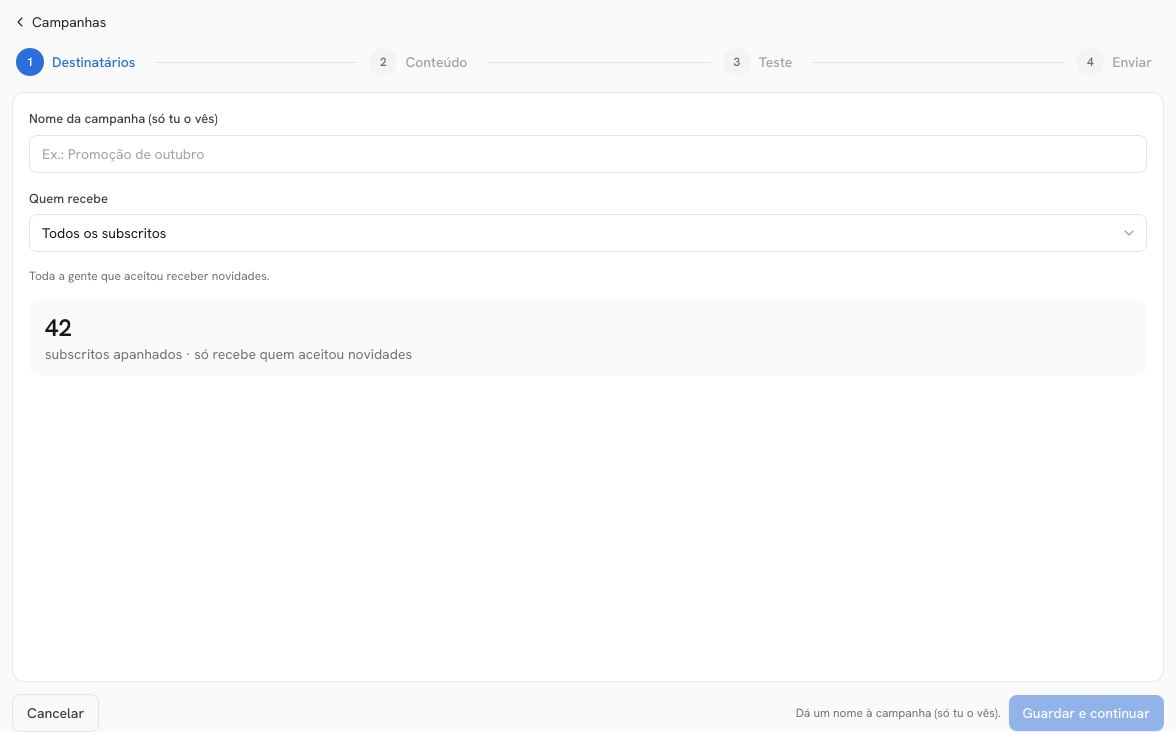
Test case: Nova campanha — passo 1, destinatários › a contagem ao vivo vem do preview-audience e muda com o segmento
Expected: the text with test id "campaign-audience-count" reads "42", [45,312,72,343]
Select "Clientes da agenda" in the dropdown labelled "Quem recebe". click: (588, 233)
box: [29,214,1147,252]
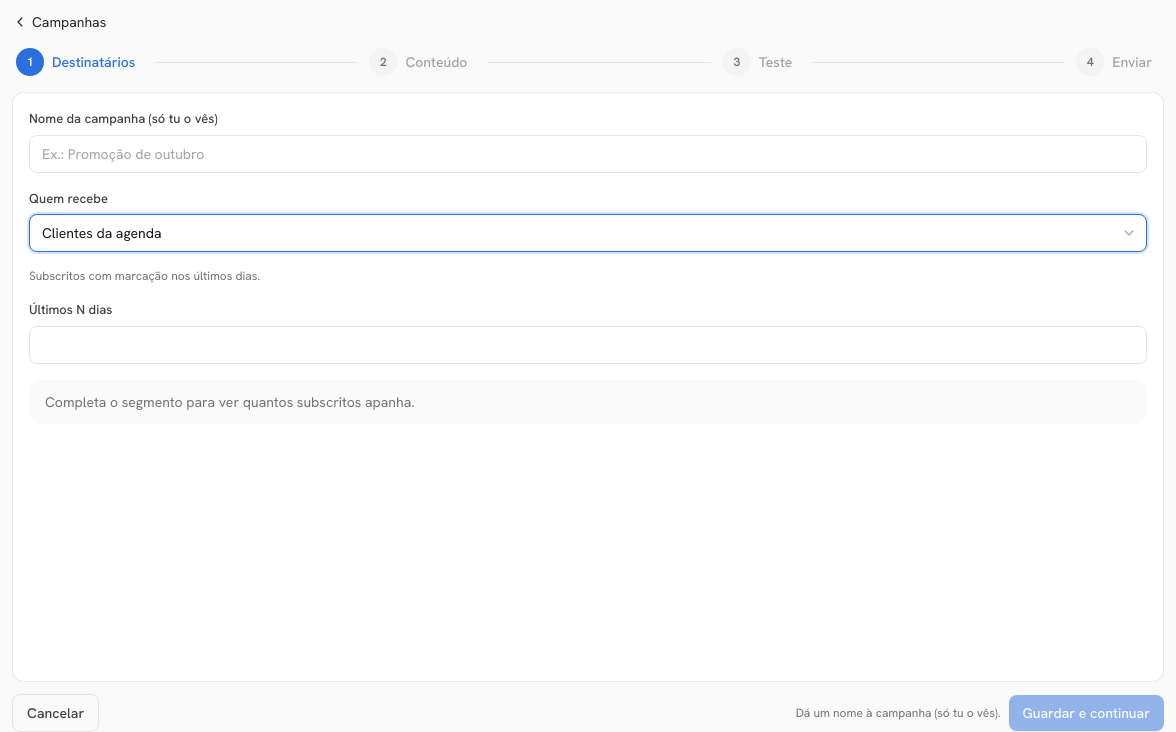
Type "15" into the number field labelled "Últimos N dias". click: (588, 344)
box: [29,326,1147,364]
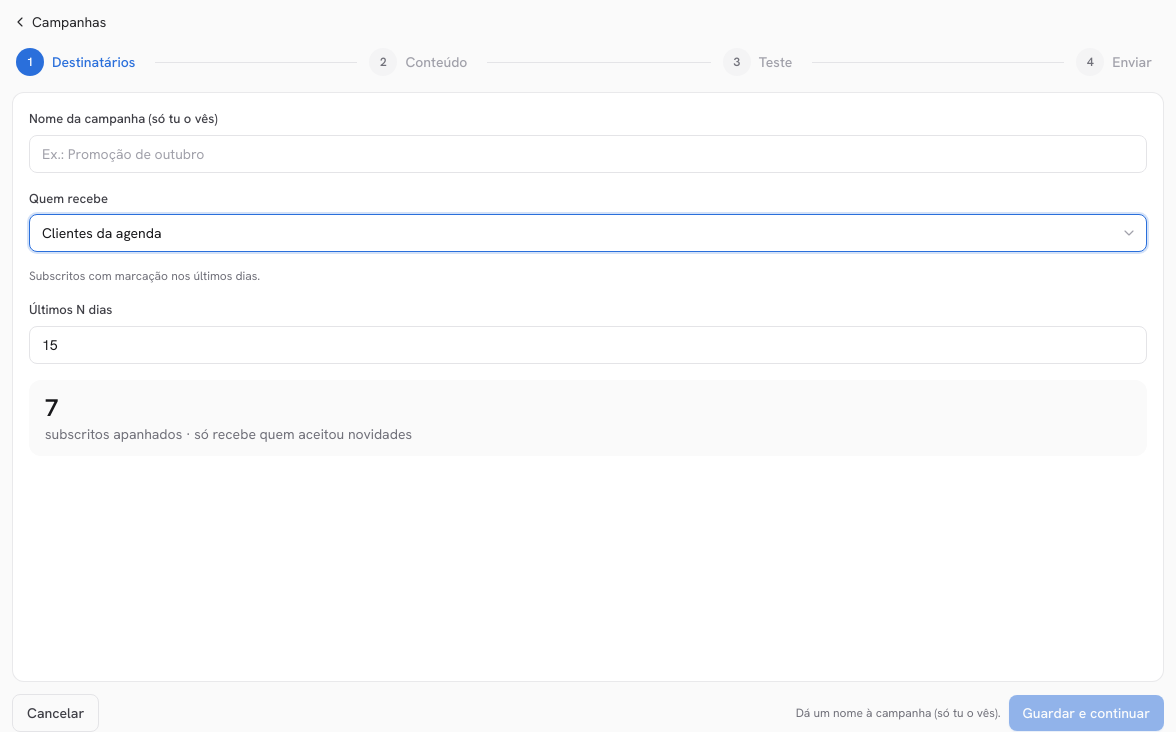
Now the text with test id "campaign-audience-count" reads "7", box [45,392,58,422]
